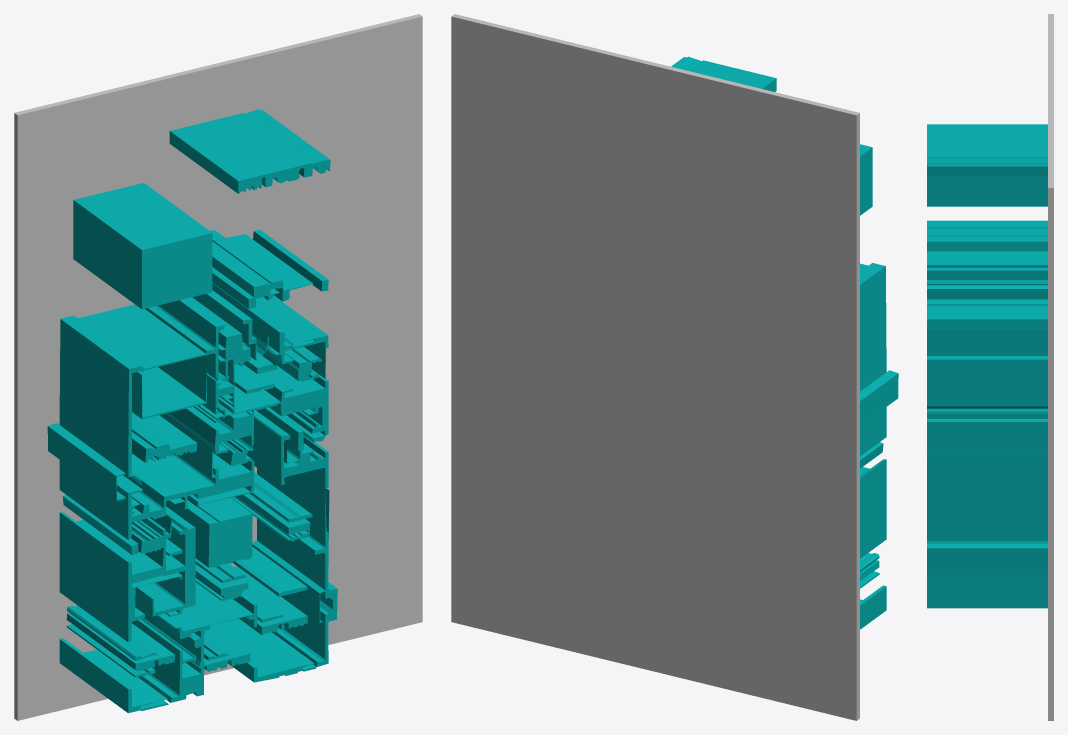
The picture shows the model from 3 angles, left to right: view 1: azimuth 30°, elevation 25°; view 2: azimuth 150°, elevation 25°; view 3: azimuth 270°, elevation 25°; orthographic projection. The views are drawn at different scales.
Parts seen in each view (by area): view 1: world; view 2: world; view 3: world.
Part boxes in pixels (<box>): world: <box>14,14,422,720</box>; world: <box>451,14,898,720</box>; world: <box>927,14,1053,720</box>.
Bounding box in the file's own units: 10.23 × 14.61 × 3.15.
